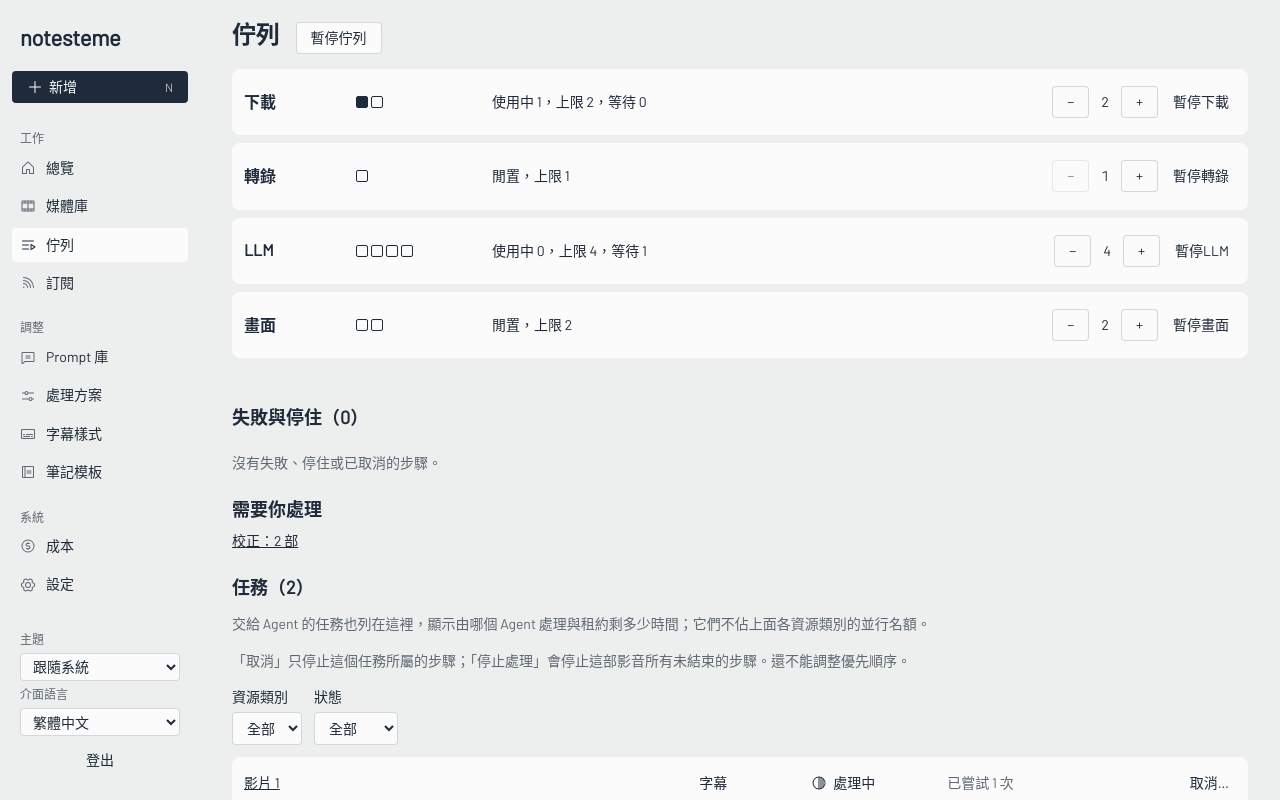
Test: 佇列：通道 › 沒有權限時（403）用 toast 說明
Expected: the heading "佇列" is shown, 232,20 -> 280,49
Expected: the heading "下載" is shown, 244,92 -> 276,111
Click the button "暫停佇列": (338, 38) 296,22 -> 382,54
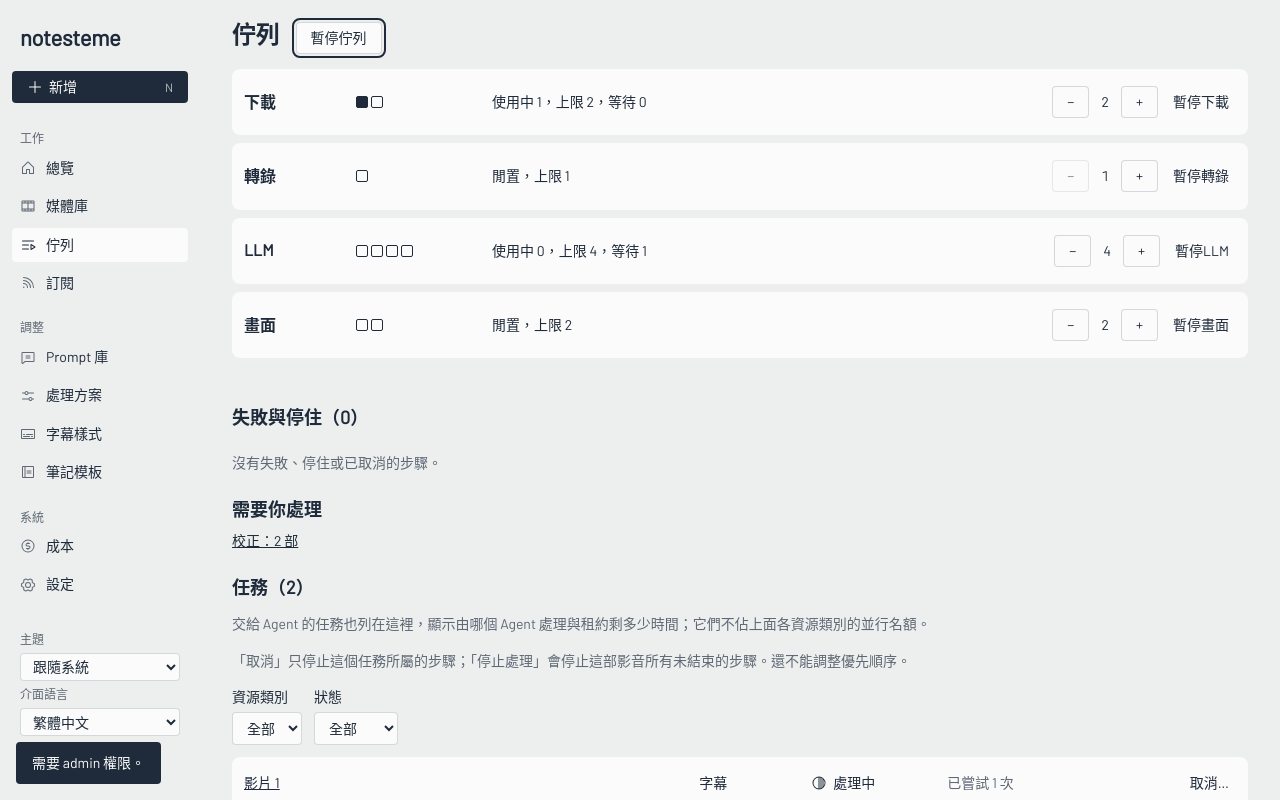
Expected: the text "需要 admin 權限。" is shown, 32,752 -> 145,774
